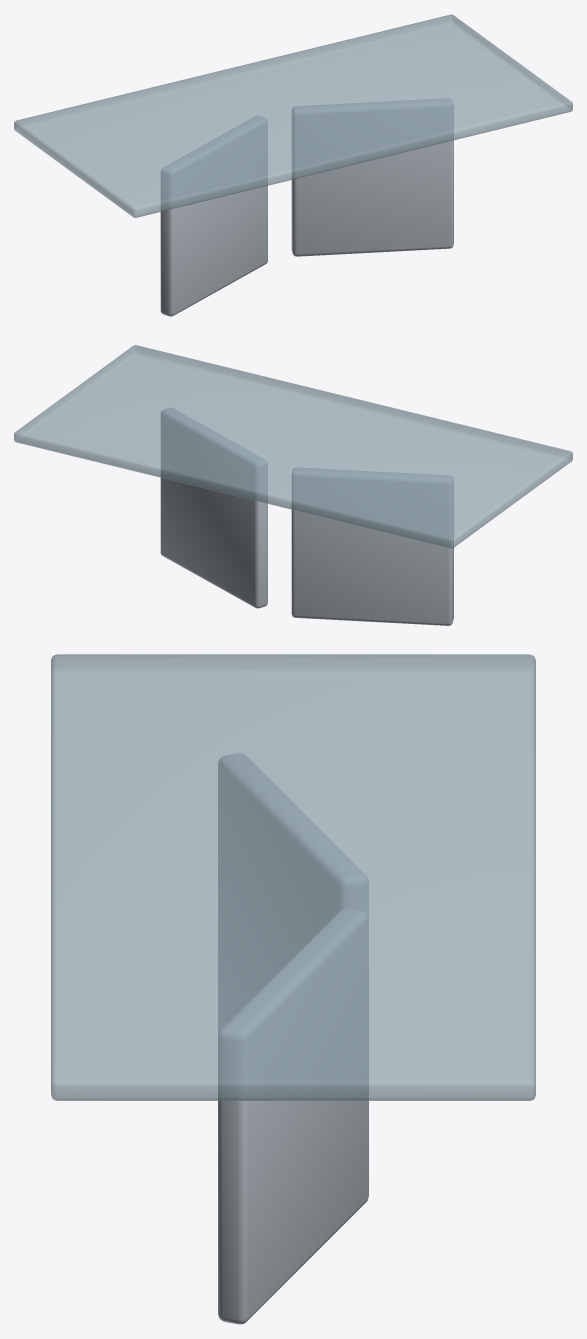
Rendered from sculpture-dining-table.glb.
3 views of the same model, one above another, from view 1: azimuth 30°, elevation 25°; view 2: azimuth 150°, elevation 25°; view 3: azimuth 270°, elevation 25° (orthographic). The views are drawn at different scales.
Parts seen in each view (by area): view 1: sculpture-dining-table; view 2: sculpture-dining-table; view 3: sculpture-dining-table.
Boxes of the visible parts, x1,y1,x2,y2 form: sculpture-dining-table: (14,14,572,316); sculpture-dining-table: (14,345,572,625); sculpture-dining-table: (51,654,535,1324).
Bounding box in the file's own units: 2.2 × 0.76 × 1.05.
